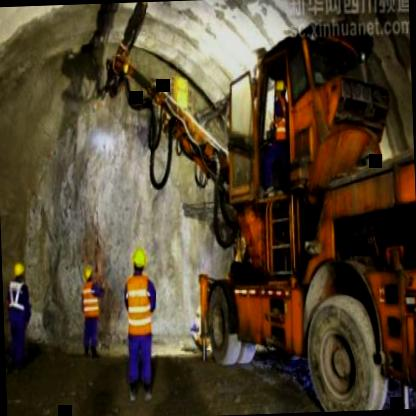helmet: (131, 246, 148, 277), (80, 262, 98, 286), (274, 74, 288, 102), (12, 260, 26, 282)
